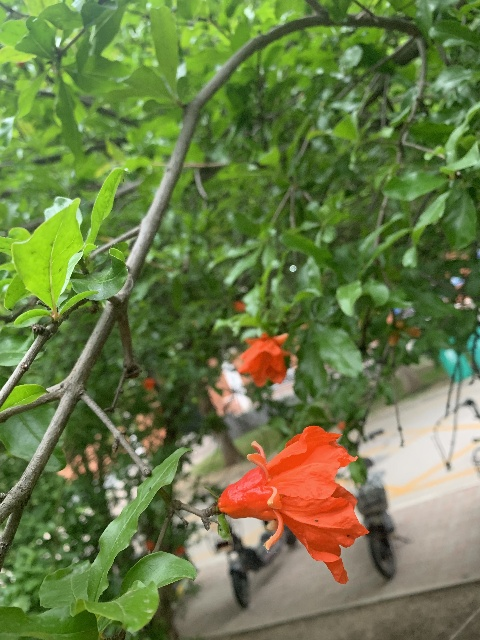flower: (218, 424, 370, 584), (237, 332, 289, 386)
